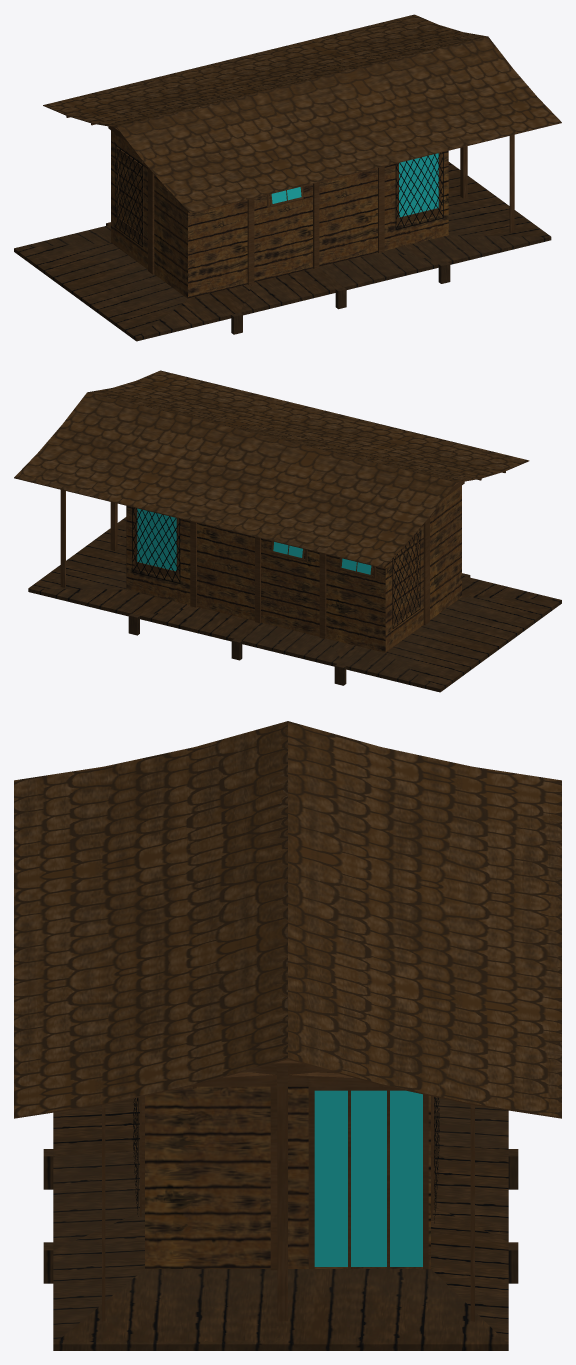
Rendered from CasaMadeira.fbx.
The picture shows the model from 3 angles, top to bottom: view 1: azimuth 30°, elevation 25°; view 2: azimuth 150°, elevation 25°; view 3: azimuth 270°, elevation 25°; orthographic projection. The views are drawn at different scales.
Visible parts, largest first — view 1: WoodenHouse; view 2: WoodenHouse; view 3: WoodenHouse.
Boxes of the visible parts, <box> form: WoodenHouse: <box>14,14,561,341</box>; WoodenHouse: <box>14,370,561,692</box>; WoodenHouse: <box>14,721,561,1350</box>.
Size of the model in its own units: 2127 by 843 by 1309.
